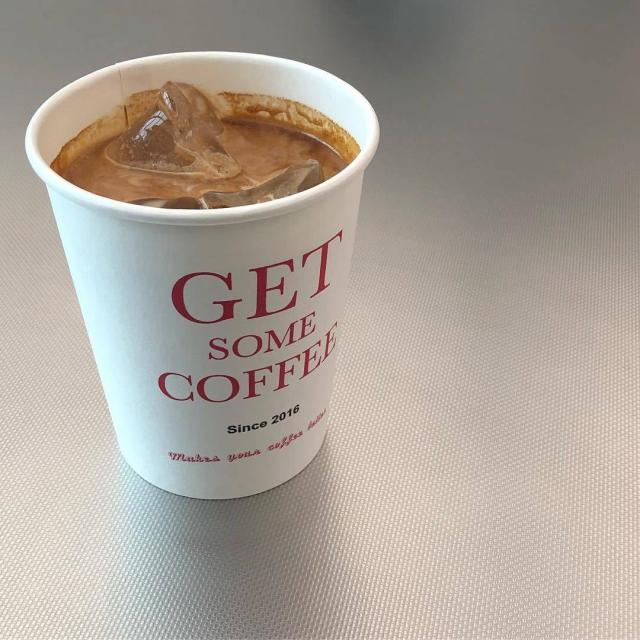paper cup: (26, 51, 381, 500)
